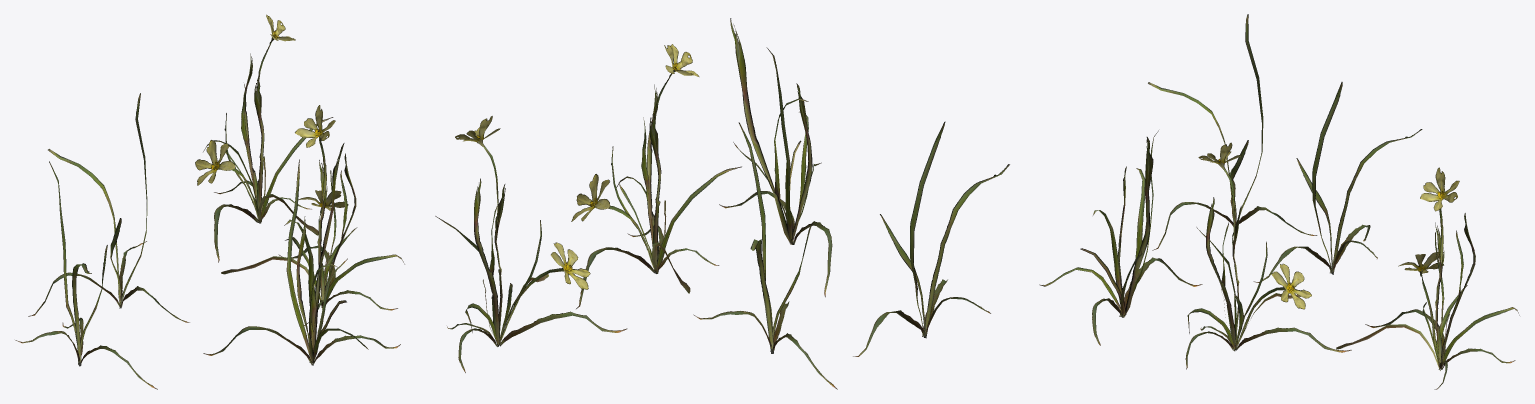
File: flower_empodium_patch.fbx
3 renders of one model, left to right at view 1: azimuth 30°, elevation 25°; view 2: azimuth 150°, elevation 25°; view 3: azimuth 270°, elevation 25°, orthographic. The views are drawn at different scales.
Visible parts, largest first — view 1: flower_empodium_patch; view 2: flower_empodium_patch; view 3: flower_empodium_patch.
Part boxes in pixels (x1=…): flower_empodium_patch: x1=15, y1=14, x2=404, y2=389; flower_empodium_patch: x1=435, y1=18, x2=1009, y2=389; flower_empodium_patch: x1=1039, y1=14, x2=1519, y2=389.
Size of the model in its own units: 0.787 by 0.38 by 0.8.
1 material, 1 textured.
